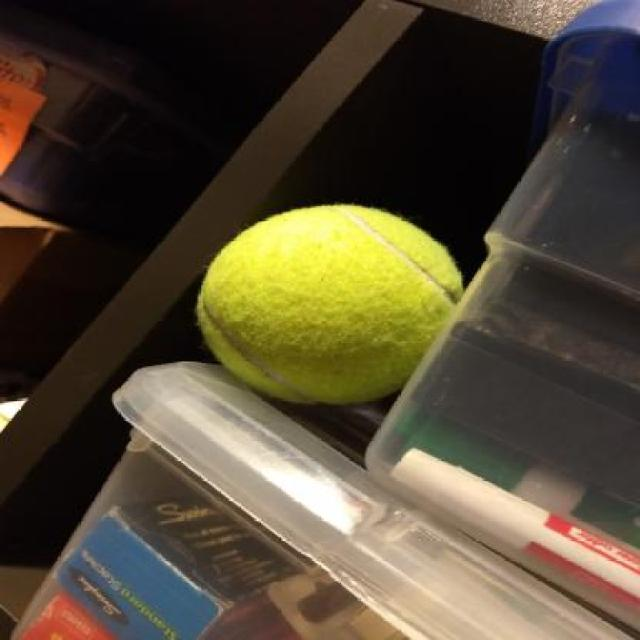Tennis_Ball: (199, 200, 463, 405)
